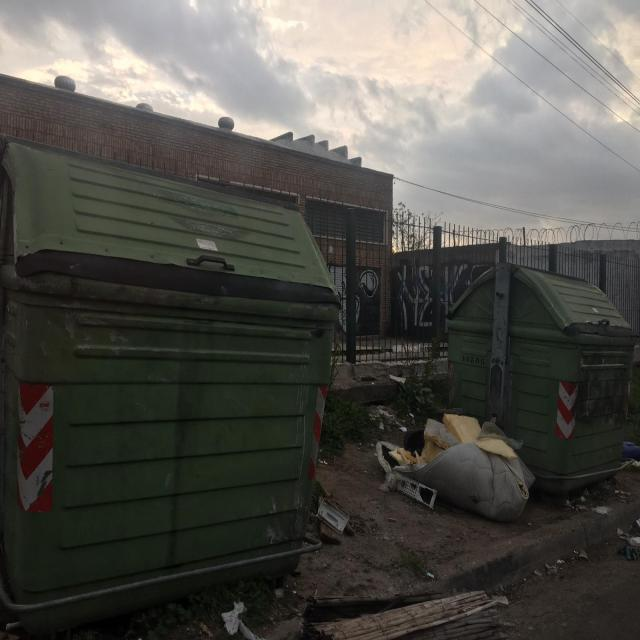garbage: (366, 405, 548, 521), (312, 490, 364, 548), (221, 584, 253, 640)
